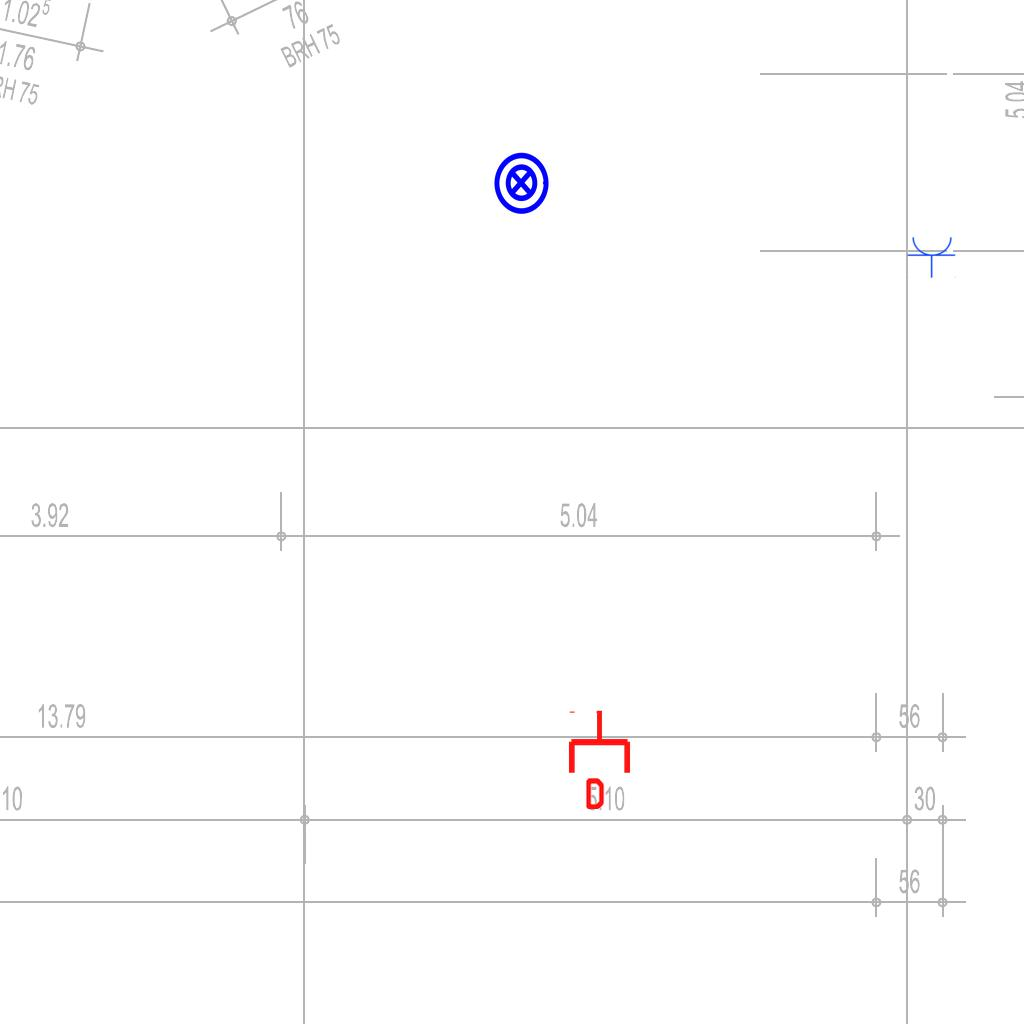Datenanschluss_einfach: (565, 709, 634, 809)
Schukosteckdose_einfach: (907, 235, 957, 278)
Taster_beleuchtet: (488, 150, 554, 216)
